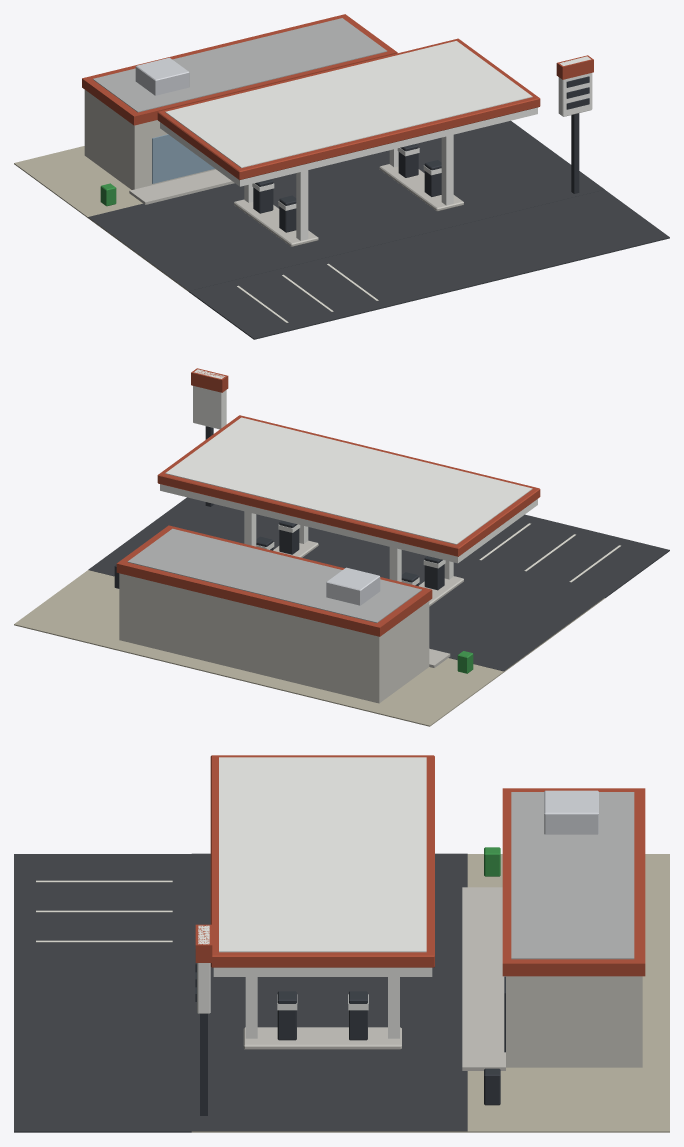
File: fuelstation.glb
3 views of the same model, one above another, from view 1: azimuth 30°, elevation 25°; view 2: azimuth 150°, elevation 25°; view 3: azimuth 270°, elevation 25° (orthographic). The views are drawn at different scales.
Visible parts, largest first — view 1: fuelstation; view 2: fuelstation; view 3: fuelstation.
Boxes of the visible parts, x1,y1,x2,y2 form: fuelstation: (14,14,669,339); fuelstation: (14,368,669,726); fuelstation: (14,755,669,1132).
Bounding box in the file's own units: 24 × 7.3 × 24.
